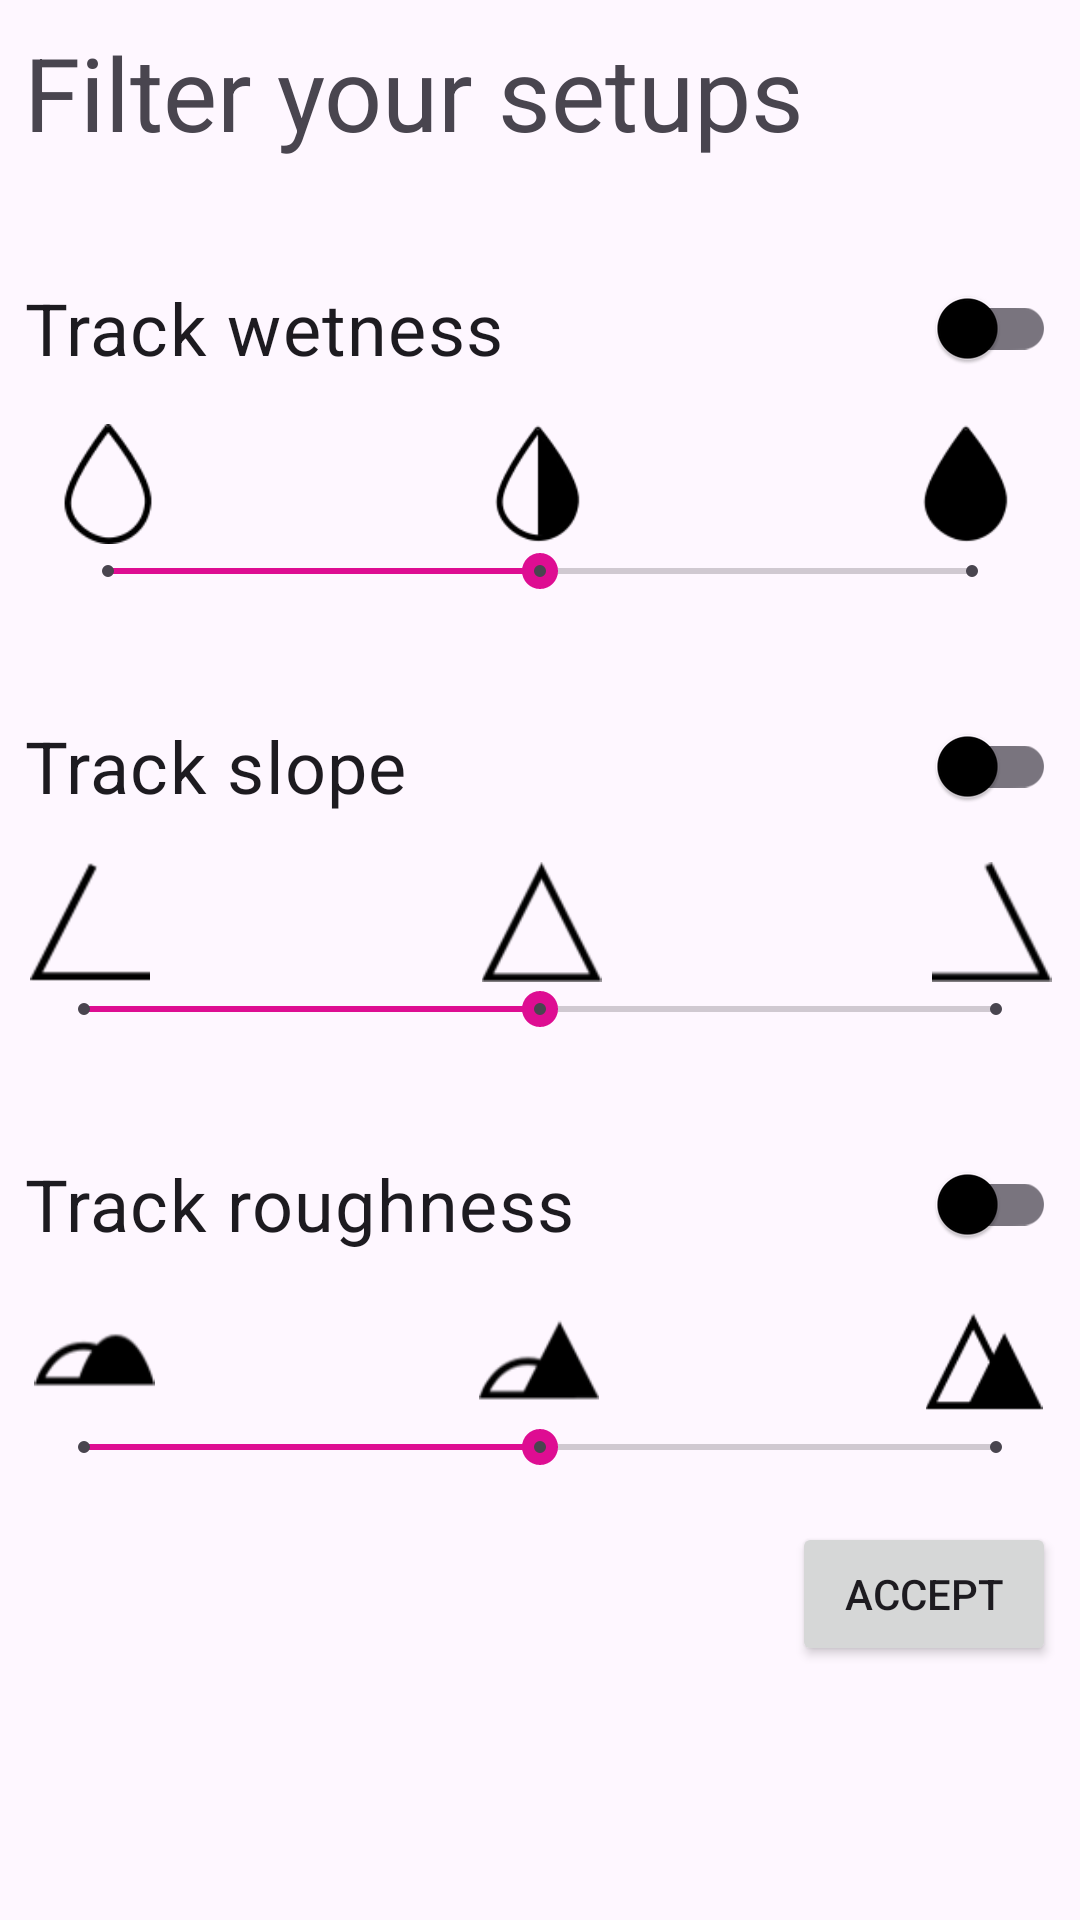

Where to tap for icons on this 1080px×1920px app screen, as [x,y]:
All-mountain: [542,922]
Downhill: [992,922]
Dry: [108,484]
Flow: [94,1360]
Mixed: [539,1360]
Semidry: [537,484]
Uphill: [90,922]
Wet: [965,484]
